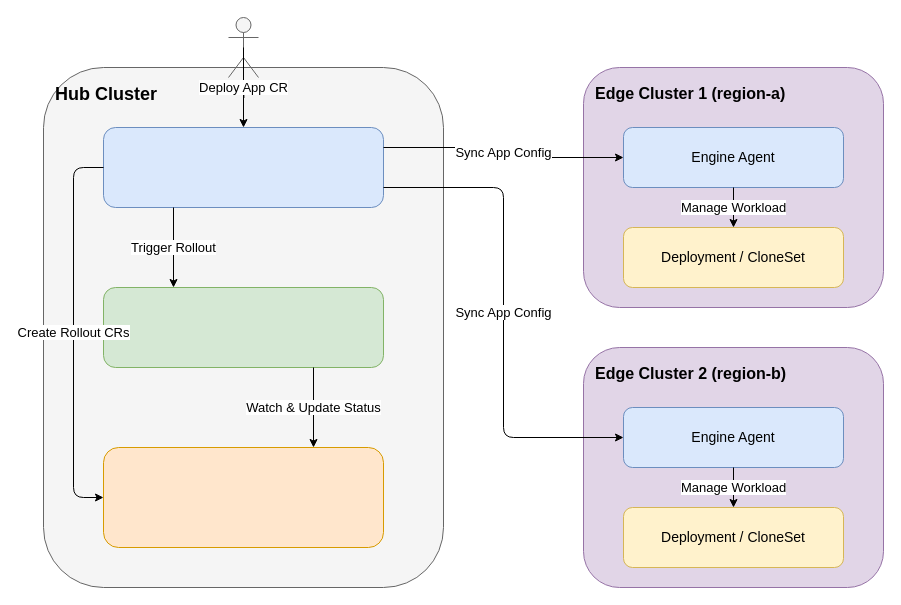
The diagram is 901 pixels wide and 605 high, and some of its shapes have lost their labels. Here are the shapes that lost their labels. From the top down, the centre of each, then its label:
At point (243, 167): "Engine Manager (App Controller & Replica Calculator)".
At point (243, 327): "Kruise Rollout Controller".
At point (243, 497): "Kubernetes API Server (Applications, Rollouts, Clusters CRDs)".
